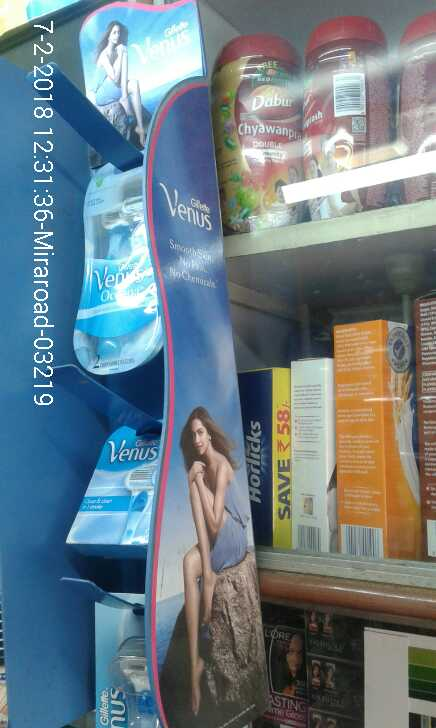venus: (76, 171, 156, 369), (65, 430, 159, 546), (90, 594, 157, 721)
